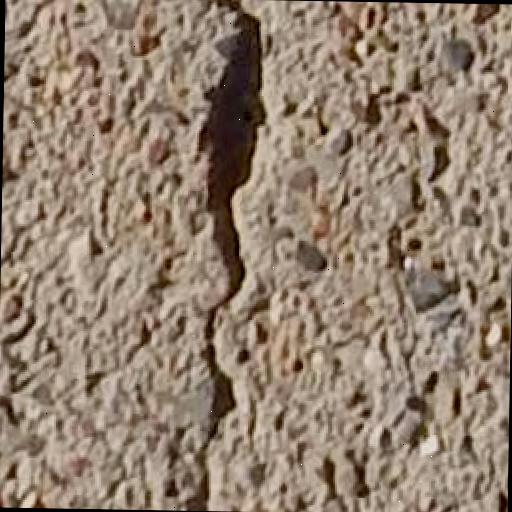spalling: (182, 1, 276, 509)
